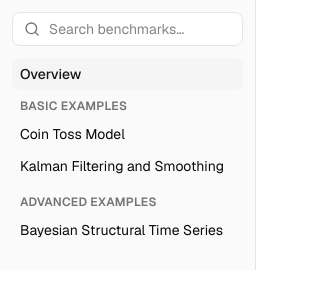
Scenario: Sidebar › shows an empty state for no matches
Type "zzz" into the search field labelled "Search benchmarks…" at (128,29), box [12,12,243,46]
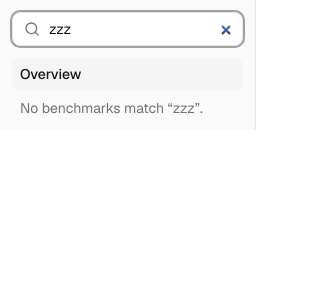
Check: the text "No benchmarks match “zzz”." is shown, box [20,99,203,117]
